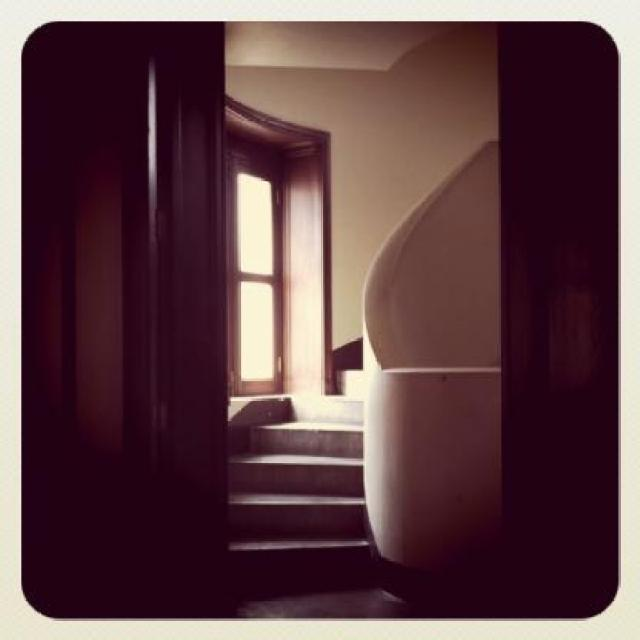stair: (230, 369, 368, 588)
